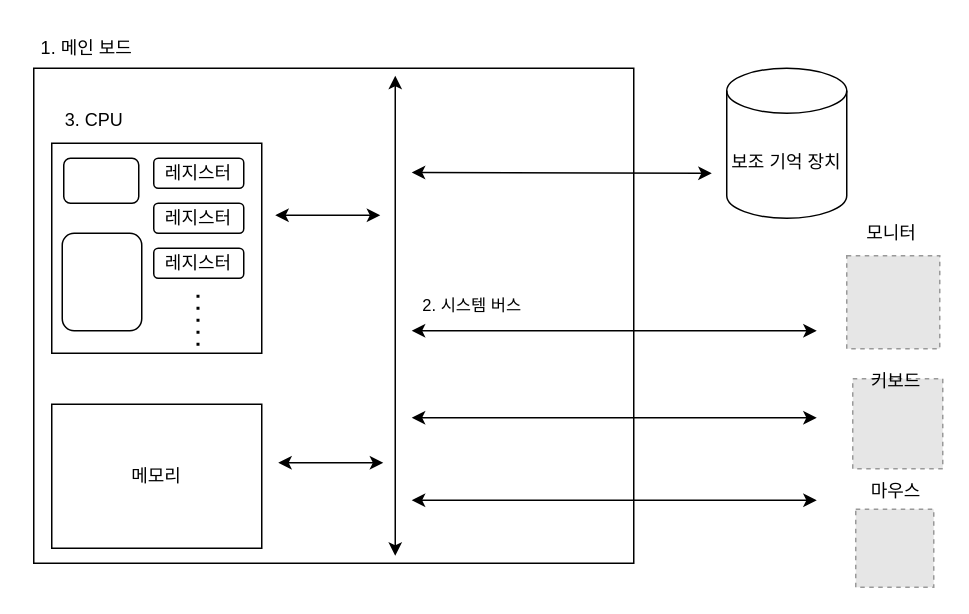
The diagram is 969 pixels wide and 614 high, and some of its shapes have lost their labels. Grey dashed boxes stand in for pictures. Each missing label, with the centre of its shape:
ALU: (100,180)
제어 장치: (101,281)
